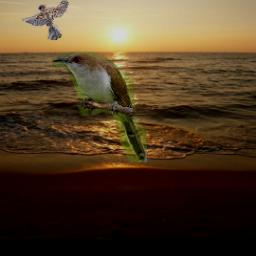Cuckoo: (52, 52, 147, 162)
Sparrow: (22, 0, 69, 41)
